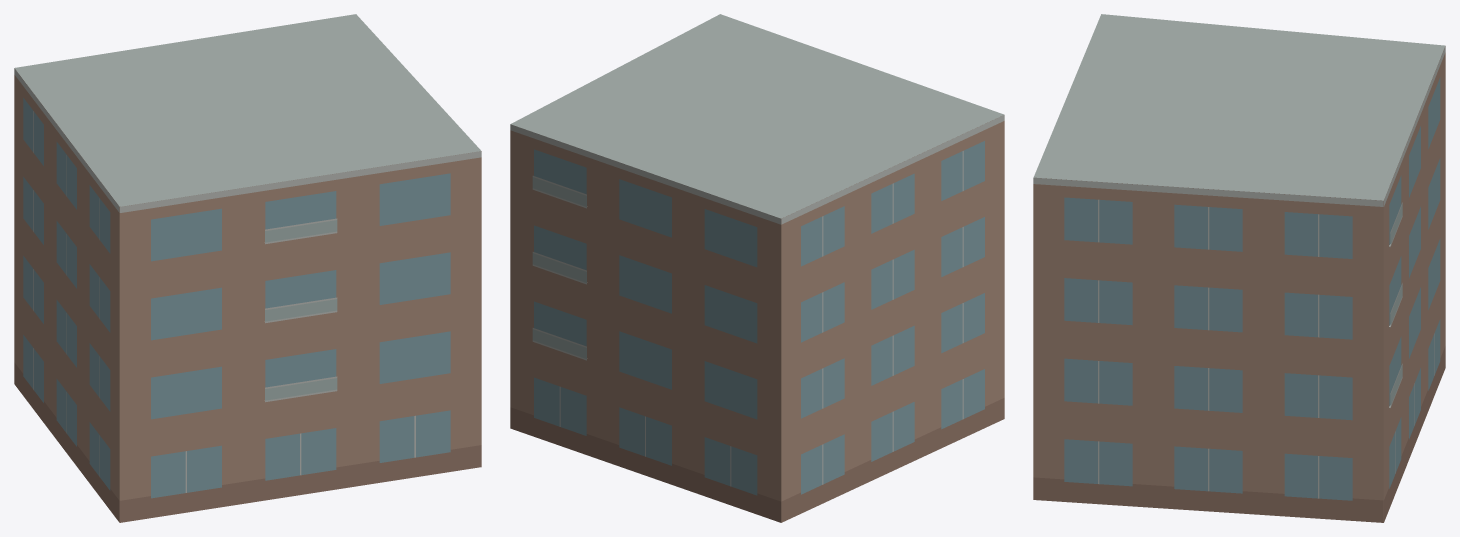
Rendered from survey-upis-32979387.glb.
3 renders of one model, left to right at view 1: azimuth 30°, elevation 25°; view 2: azimuth 150°, elevation 25°; view 3: azimuth 270°, elevation 25°, orthographic. The views are drawn at different scales.
Parts seen in each view (by area): view 1: survey-upis-32979387.tmp; view 2: survey-upis-32979387.tmp; view 3: survey-upis-32979387.tmp.
Boxes of the visible parts, left/top/right/bottom form: survey-upis-32979387.tmp: left=14, top=14, right=481, bottom=522; survey-upis-32979387.tmp: left=510, top=14, right=1004, bottom=522; survey-upis-32979387.tmp: left=1033, top=14, right=1445, bottom=522.
Size of the model in its own units: 15.16 by 12.2 by 14.15.
